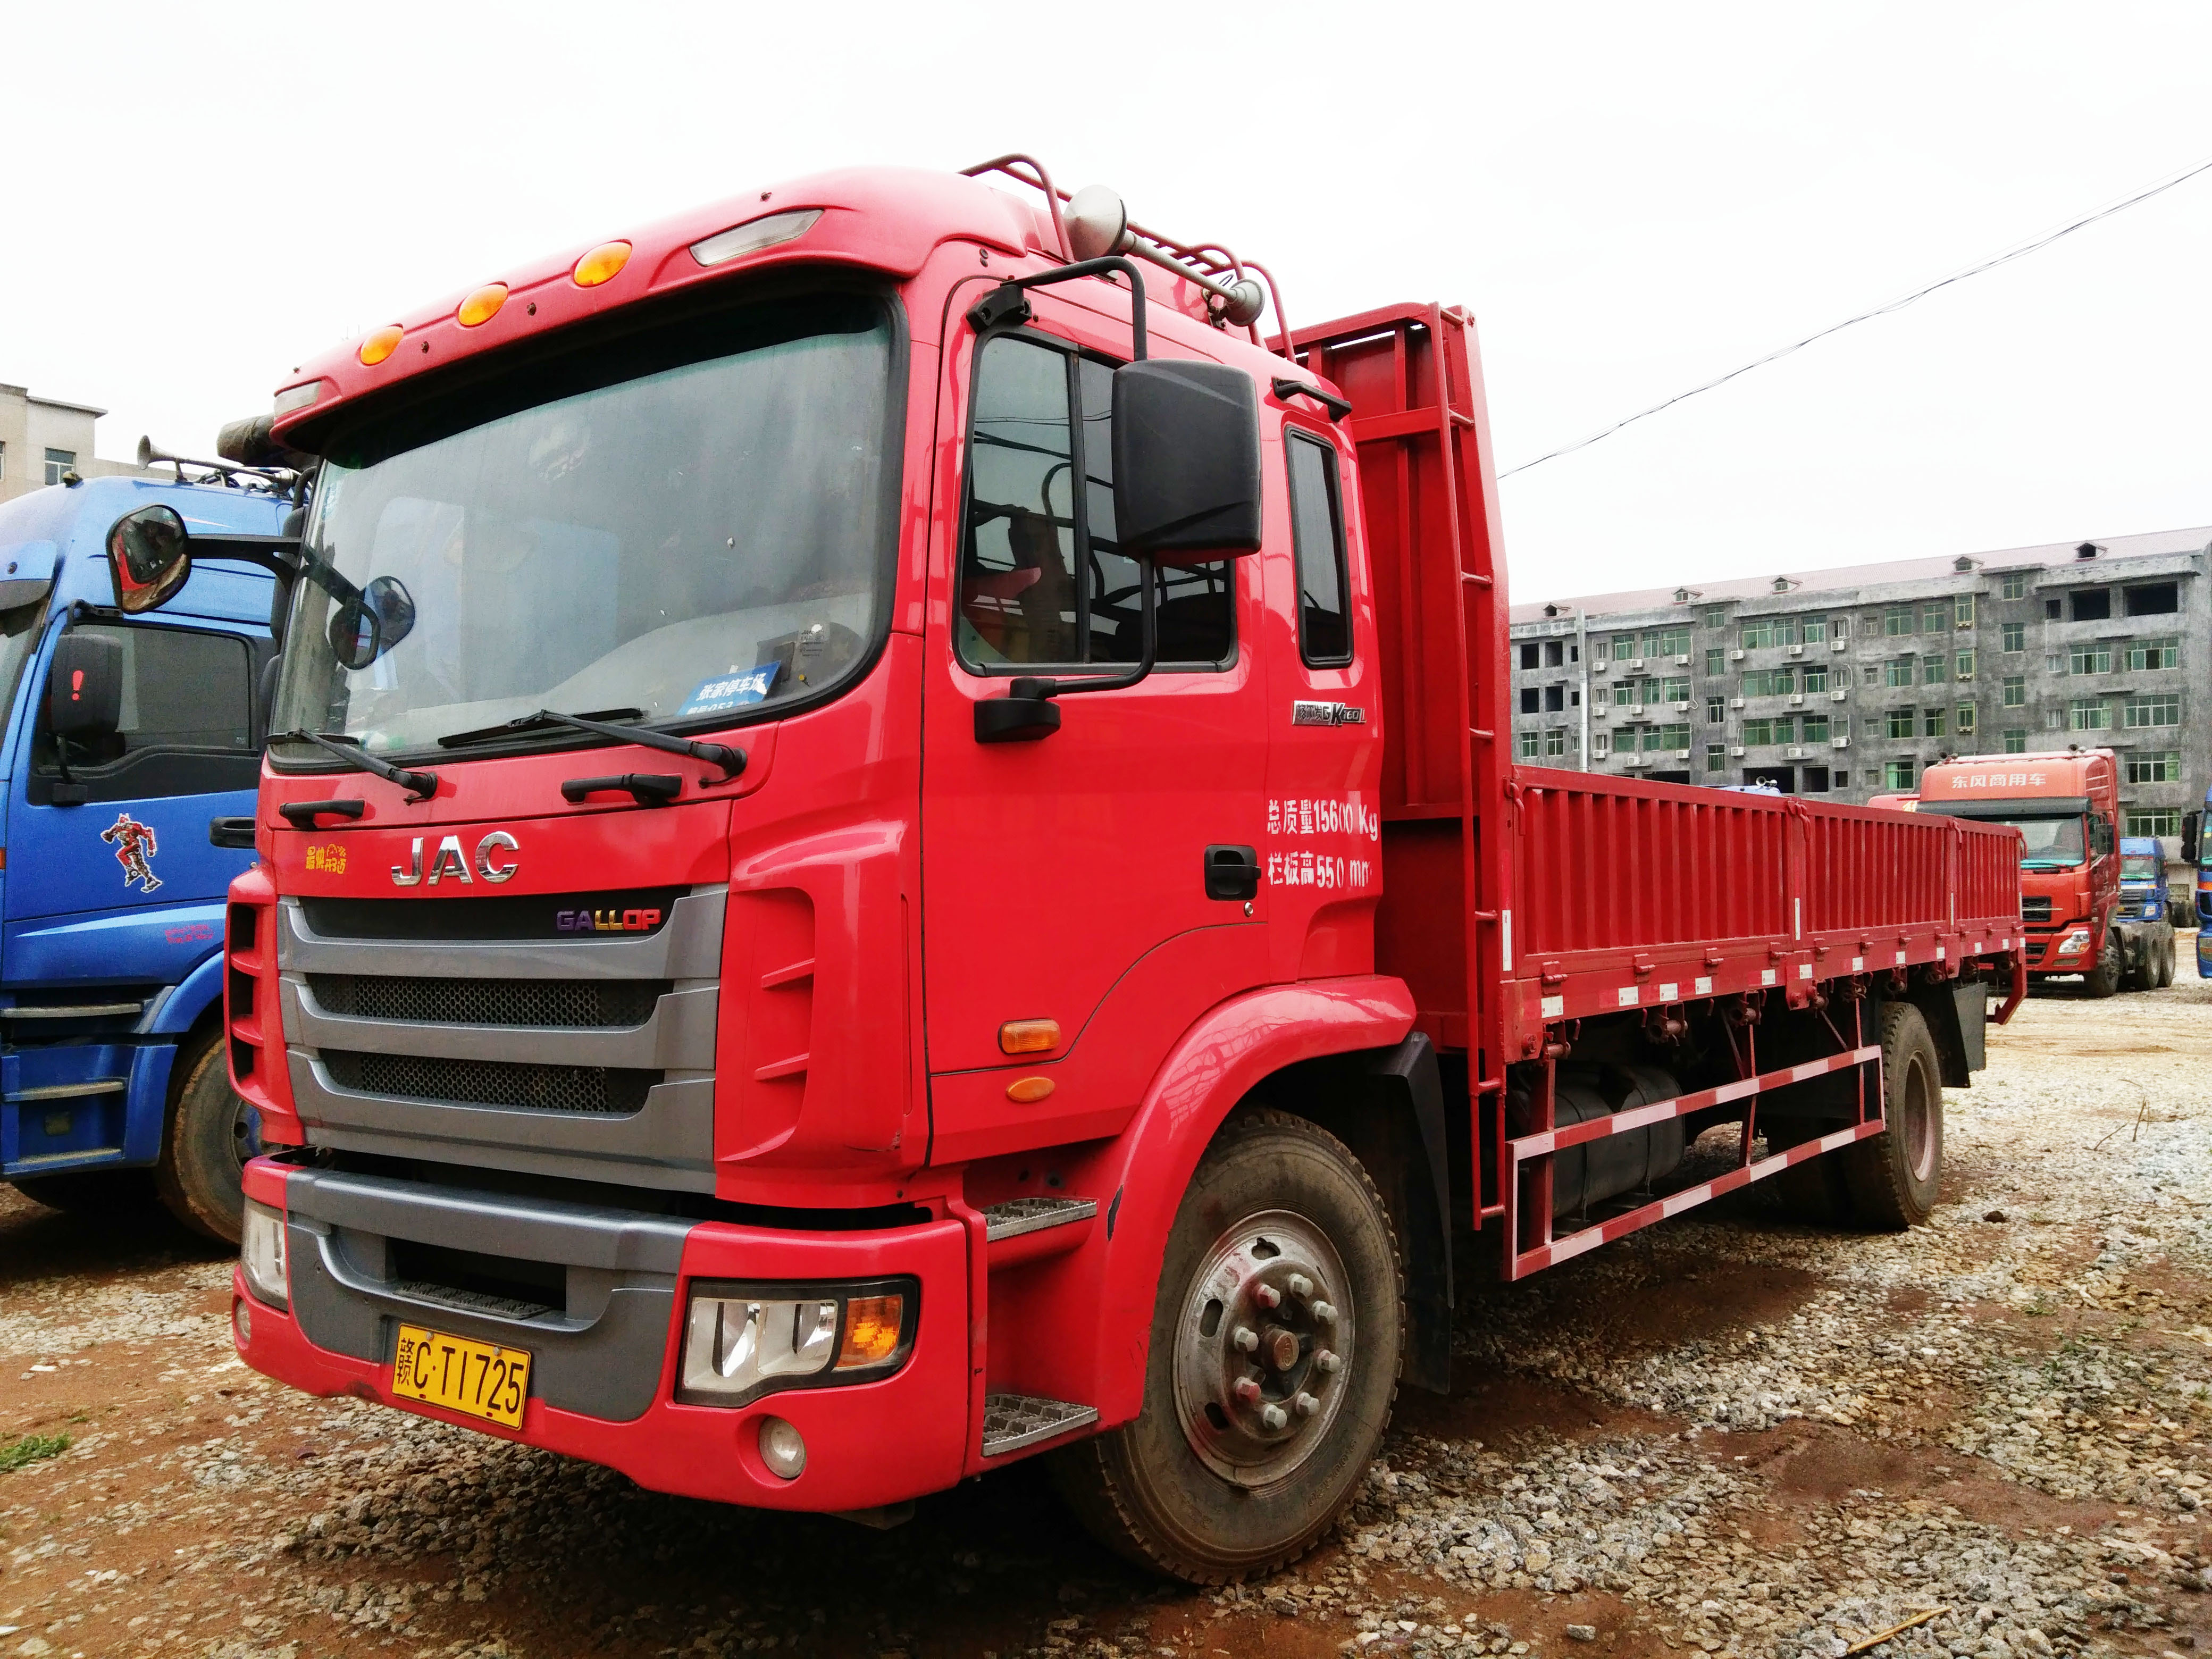truck: (101, 136, 2033, 1596)
